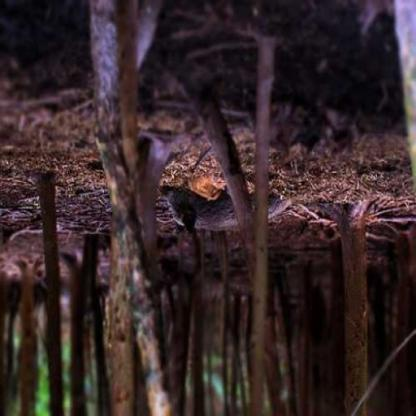boar: (159, 169, 319, 235)
